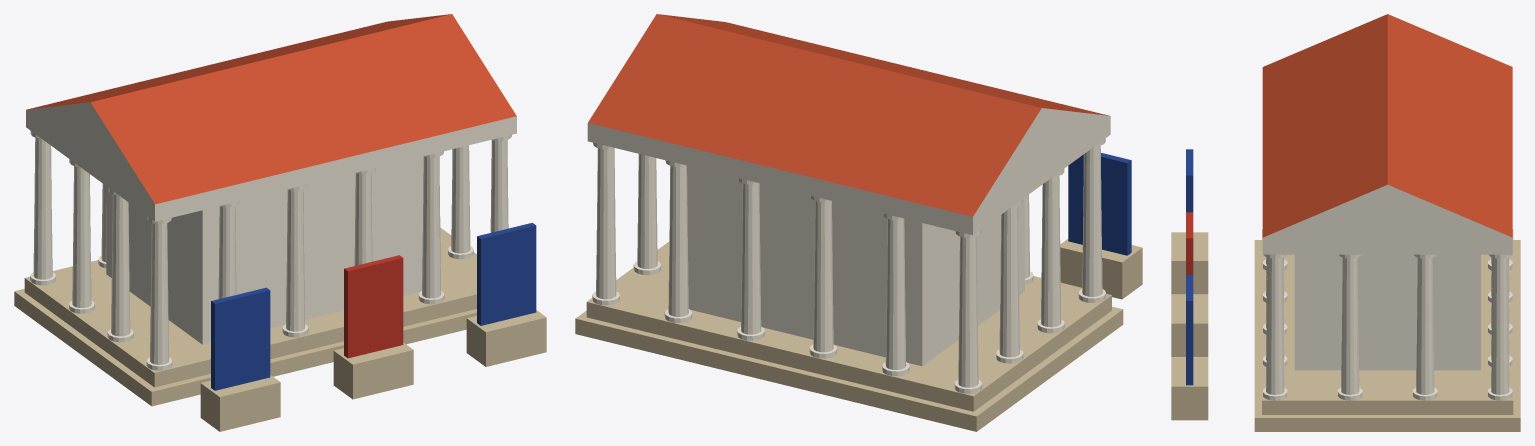
File: building_museum_art.fbx
3 renders of one model, left to right at view 1: azimuth 30°, elevation 25°; view 2: azimuth 150°, elevation 25°; view 3: azimuth 270°, elevation 25°, orthographic. The views are drawn at different scales.
Visible parts, largest first — view 1: building_museum_art; view 2: building_museum_art; view 3: building_museum_art.
Part boxes in pixels (left/top/right/bottom): building_museum_art: left=14, top=14, right=546, bottom=431; building_museum_art: left=575, top=14, right=1142, bottom=431; building_museum_art: left=1171, top=14, right=1520, bottom=431.
Size of the model in its own units: 68 by 43.46 by 56.5.
